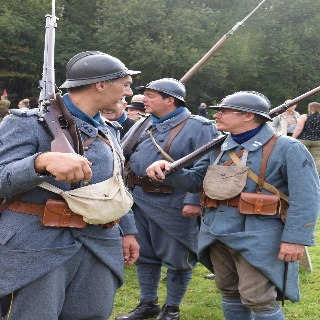rifle: (121, 1, 264, 153), (150, 83, 320, 182), (7, 1, 94, 156)
